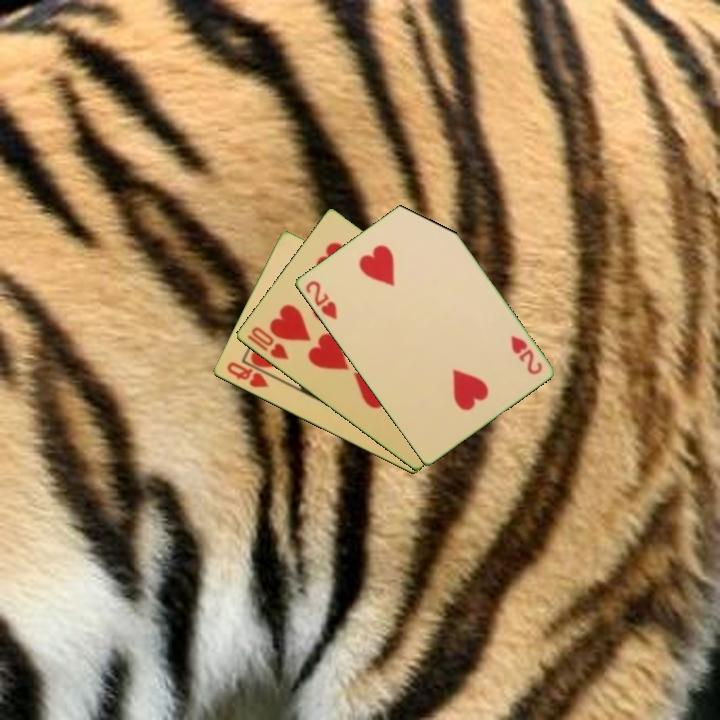10h: (243, 323, 292, 363)
2h: (301, 277, 340, 323), (507, 331, 545, 378)
Qh: (223, 359, 271, 391)
